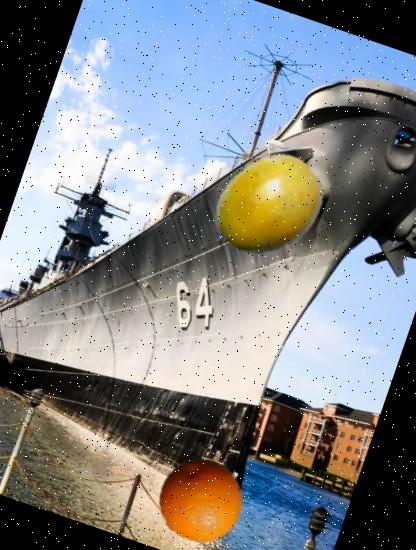Maracuja: (197, 132, 342, 278)
Orange: (146, 444, 257, 550)
